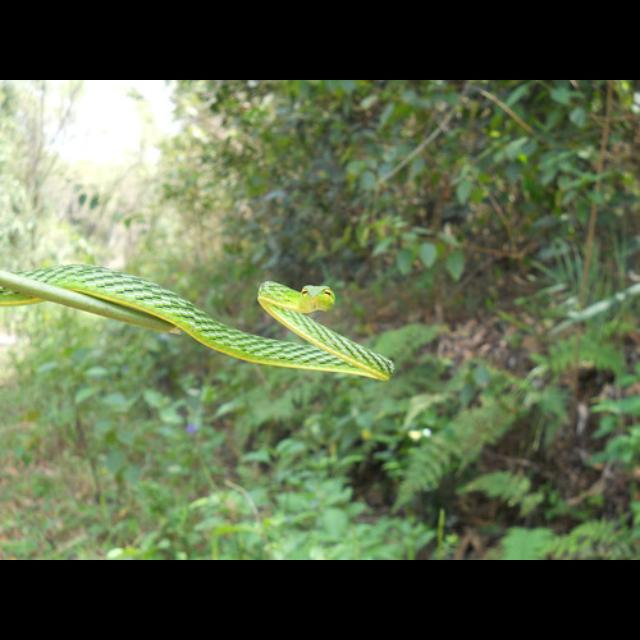snake: (2, 266, 400, 382)
